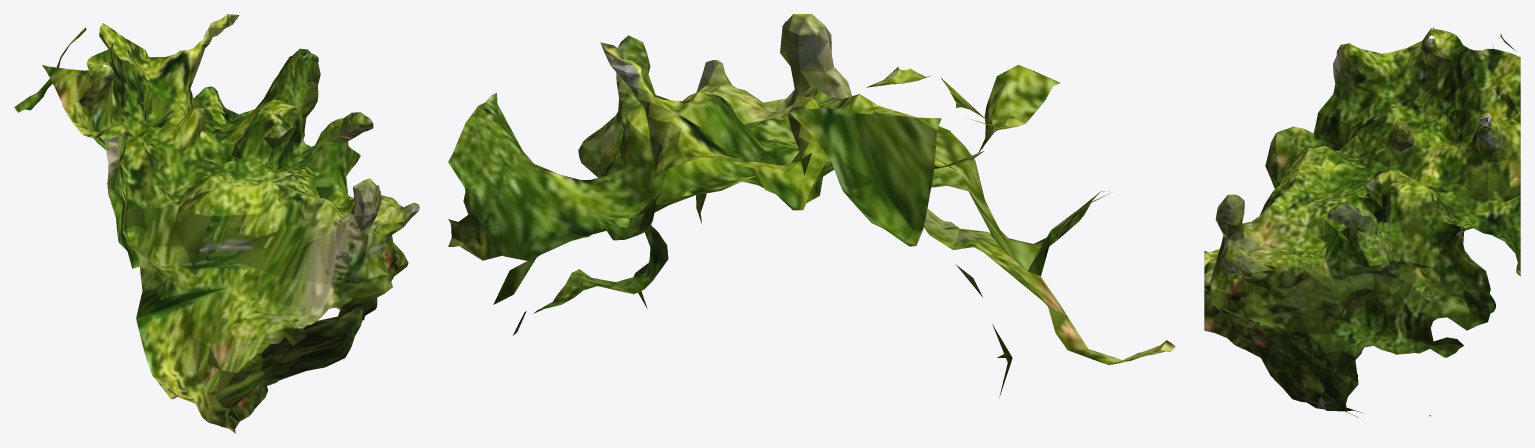
3 renders of one model, left to right at view 1: azimuth 30°, elevation 25°; view 2: azimuth 150°, elevation 25°; view 3: azimuth 270°, elevation 25°, orthographic. The views are drawn at different scales.
Size of the model in its own units: 1.67 by 1.67 by 1.67.
Materials: 5 (5 with a texture image).
